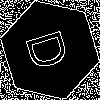D: (25, 25, 79, 73)
